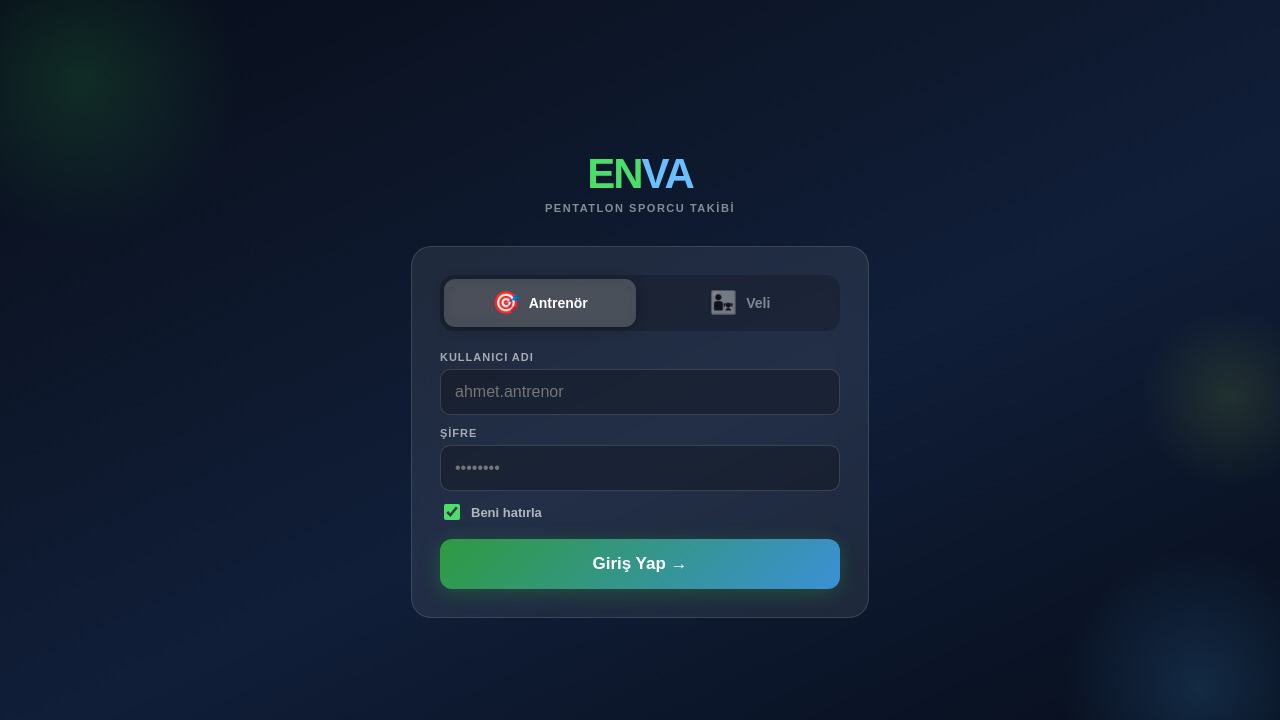
Test: role selector switches between coach and parent
This screenshot has width=1280, height=720.
Click the button "👨‍👧 Veli".
click(740, 303)  # box [644, 279, 836, 327]
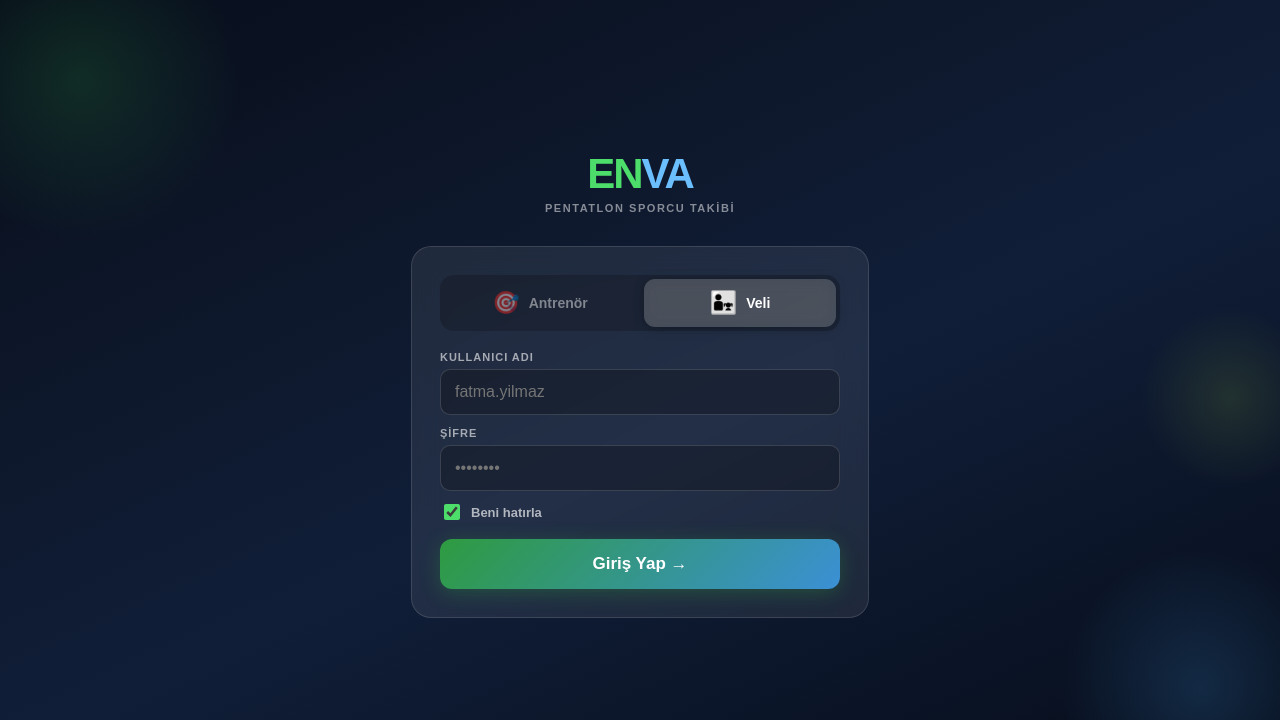
Now the field with placeholder "fatma.yilmaz" is shown, box [440, 369, 840, 415]
